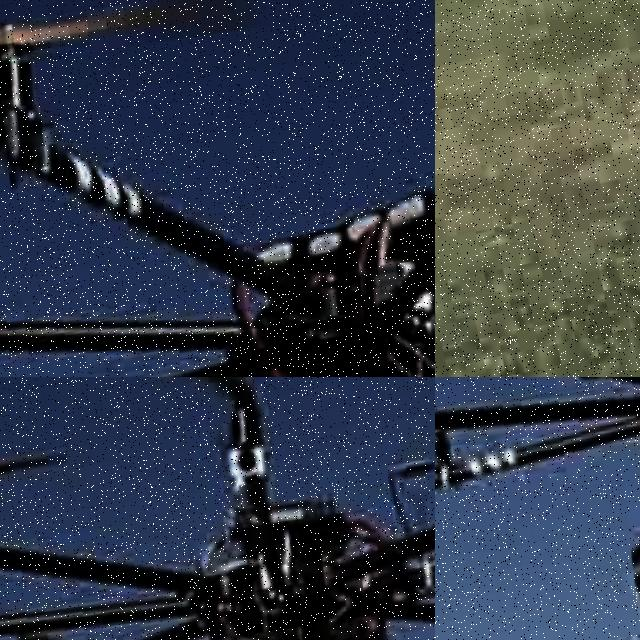drone: (0, 0, 435, 377), (0, 377, 435, 640), (435, 377, 640, 640)
